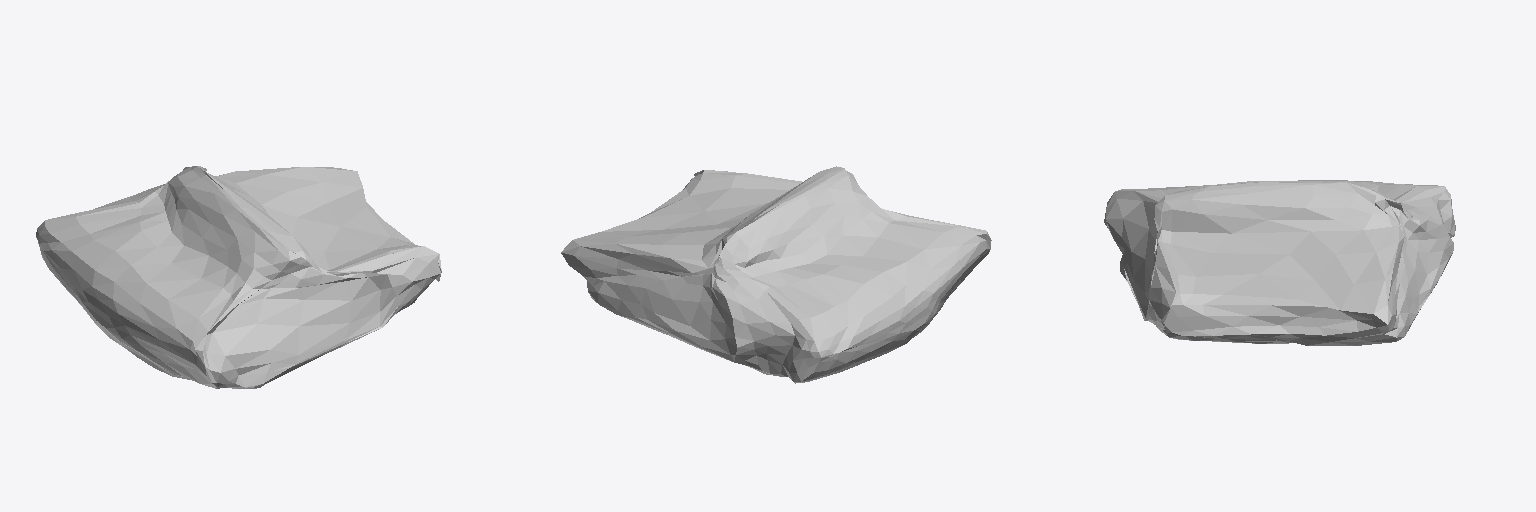
Rendered from video3_1.obj.
The picture shows the model from 3 angles: view 1: azimuth 30°, elevation 25°; view 2: azimuth 150°, elevation 25°; view 3: azimuth 270°, elevation 25°; orthographic projection.
Bounding box in the file's own units: 1 × 0.4035 × 0.9951.